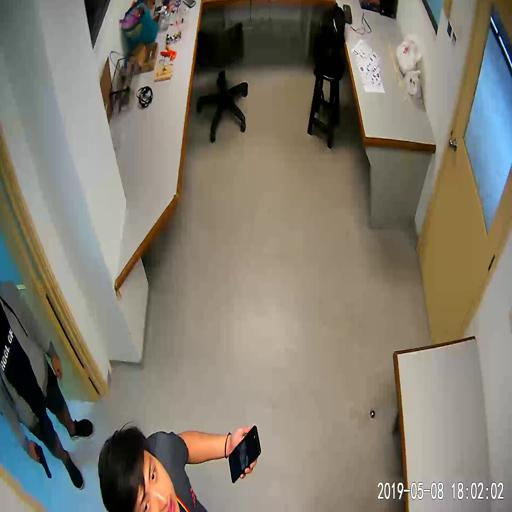pistol: (28, 443, 50, 479)
